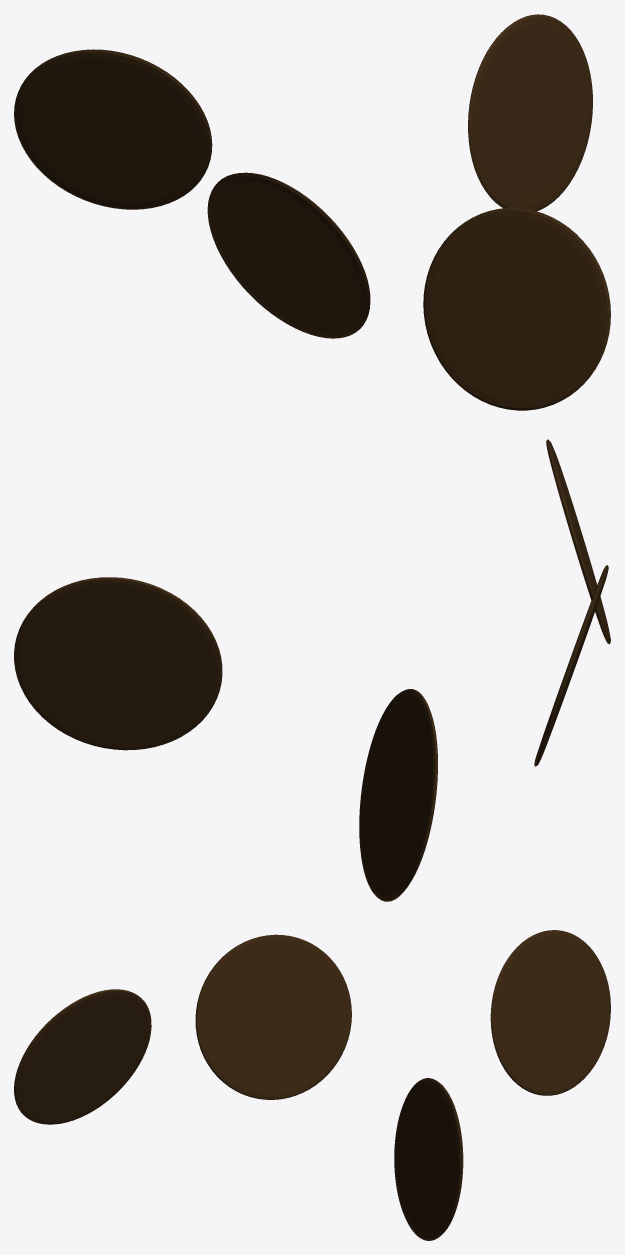
The model's file is DecoChocolateChoco.glb.
The picture shows the model from 3 angles, top to bottom: view 1: azimuth 30°, elevation 25°; view 2: azimuth 150°, elevation 25°; view 3: azimuth 270°, elevation 25°; orthographic projection. The views are drawn at different scales.
Visible parts, largest first — view 1: Circle.005, Circle.006, Circle.007, Circle.004; view 2: Circle.007, Circle.006, Circle.005, Circle.004; view 3: Circle.004, Circle.006, Circle.005, Circle.007.
Boxes of the visible parts, x1,y1,x2,y2 form: Circle.005: [423, 208, 610, 410]; Circle.006: [14, 49, 212, 209]; Circle.007: [468, 14, 592, 211]; Circle.004: [207, 172, 370, 338]; Circle.007: [14, 577, 222, 750]; Circle.006: [359, 689, 437, 901]; Circle.005: [546, 439, 610, 644]; Circle.004: [534, 565, 608, 766]; Circle.004: [195, 934, 351, 1099]; Circle.006: [490, 930, 610, 1095]; Circle.005: [14, 989, 151, 1124]; Circle.007: [394, 1078, 463, 1240].
Bounding box in the file's own units: 1.03 × 0.3915 × 1.34.
